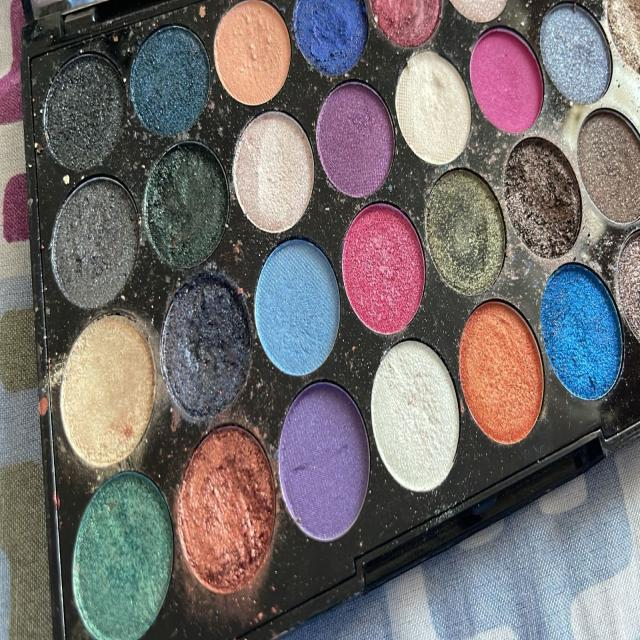eye shade: (18, 4, 640, 583)
